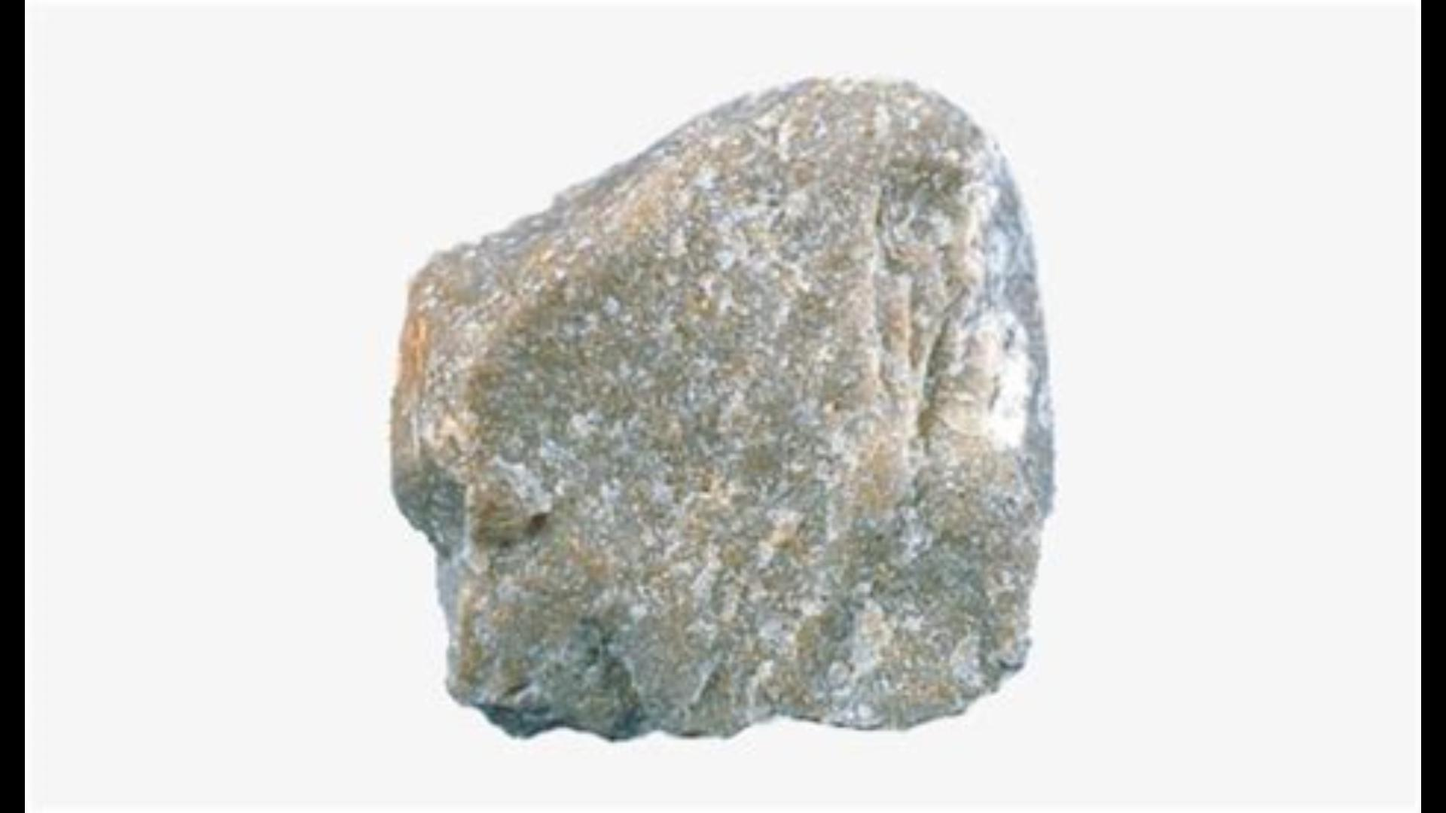rock: (393, 80, 1050, 731)
